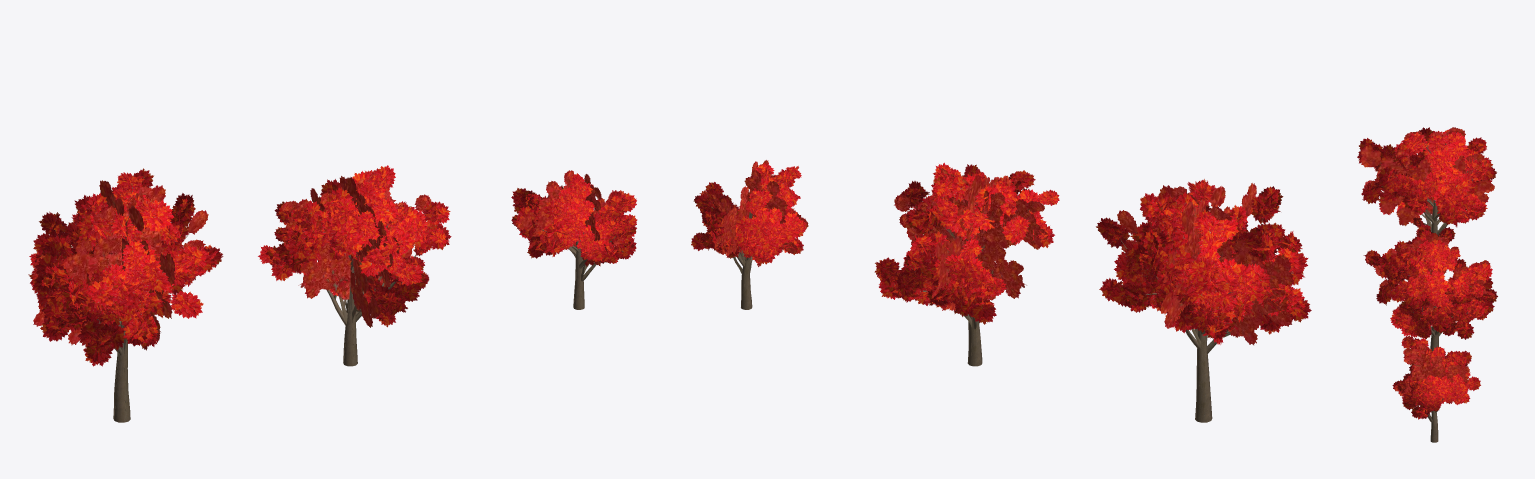
The model's file is tree_maple.glb.
3 renders of one model, left to right at view 1: azimuth 30°, elevation 25°; view 2: azimuth 150°, elevation 25°; view 3: azimuth 270°, elevation 25°, orthographic. The views are drawn at different scales.
Parts seen in each view (by area): view 1: maple_v0_LOD1_leaves, maple_v1_LOD1_leaves, maple_v0_LOD0_leaves, maple_v2_LOD1_leaves, maple_v1_LOD0_leaves, maple_v0_LOD2_impostor, maple_v1_LOD2_impostor, maple_v2_LOD0_leaves, maple_v2_LOD2_impostor, maple_v0_LOD1_log; view 2: maple_v0_LOD1_leaves, maple_v1_LOD1_leaves, maple_v0_LOD0_leaves, maple_v1_LOD2_impostor, maple_v0_LOD2_impostor, maple_v2_LOD1_leaves, maple_v1_LOD0_leaves, maple_v2_LOD0_leaves, maple_v2_LOD2_impostor; view 3: maple_v1_LOD1_leaves, maple_v0_LOD1_leaves, maple_v1_LOD0_leaves, maple_v0_LOD0_leaves, maple_v2_LOD1_leaves, maple_v0_LOD2_impostor, maple_v2_LOD2_impostor, maple_v2_LOD0_leaves, maple_v1_LOD2_impostor.
Boxes of the visible parts, x1=… form: maple_v0_LOD1_leaves: x1=28, y1=168, x2=223, y2=366; maple_v1_LOD1_leaves: x1=258, y1=165, x2=451, y2=327; maple_v0_LOD0_leaves: x1=33, y1=175, x2=219, y2=362; maple_v2_LOD1_leaves: x1=511, y1=173, x2=637, y2=263; maple_v1_LOD0_leaves: x1=262, y1=168, x2=447, y2=320; maple_v0_LOD2_impostor: x1=32, y1=180, x2=208, y2=415; maple_v1_LOD2_impostor: x1=277, y1=174, x2=431, y2=358; maple_v2_LOD0_leaves: x1=514, y1=176, x2=635, y2=263; maple_v2_LOD2_impostor: x1=517, y1=170, x2=625, y2=301; maple_v0_LOD1_log: x1=116, y1=323, x2=129, y2=411; maple_v0_LOD1_leaves: x1=1096, y1=179, x2=1311, y2=344; maple_v1_LOD1_leaves: x1=874, y1=162, x2=1059, y2=324; maple_v0_LOD0_leaves: x1=1100, y1=181, x2=1304, y2=338; maple_v1_LOD2_impostor: x1=894, y1=168, x2=1048, y2=358; maple_v0_LOD2_impostor: x1=1117, y1=183, x2=1293, y2=415; maple_v2_LOD1_leaves: x1=691, y1=162, x2=806, y2=266; maple_v1_LOD0_leaves: x1=878, y1=166, x2=1056, y2=320; maple_v2_LOD0_leaves: x1=693, y1=163, x2=806, y2=262; maple_v2_LOD2_impostor: x1=699, y1=160, x2=808, y2=307; maple_v1_LOD1_leaves: x1=1363, y1=217, x2=1497, y2=339; maple_v0_LOD1_leaves: x1=1357, y1=127, x2=1496, y2=227; maple_v1_LOD0_leaves: x1=1366, y1=218, x2=1495, y2=338; maple_v0_LOD0_leaves: x1=1360, y1=129, x2=1494, y2=223; maple_v2_LOD1_leaves: x1=1392, y1=335, x2=1480, y2=419; maple_v0_LOD2_impostor: x1=1360, y1=127, x2=1494, y2=231; maple_v2_LOD2_impostor: x1=1394, y1=343, x2=1471, y2=436; maple_v2_LOD0_leaves: x1=1398, y1=337, x2=1477, y2=417; maple_v1_LOD2_impostor: x1=1365, y1=233, x2=1495, y2=336.
Size of the model in its own units: 33.29 by 16.95 by 11.29.
4 materials, 4 textured.
